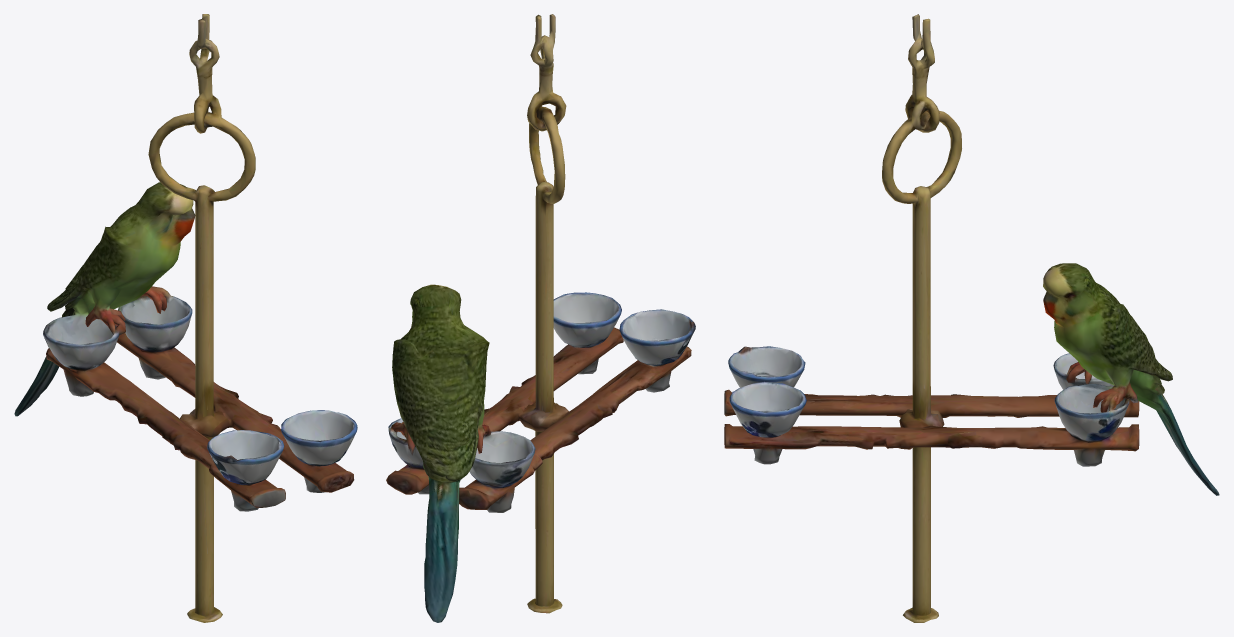
Rendered from yingwu.glb.
3 views of the same model, side by side, from view 1: azimuth 30°, elevation 25°; view 2: azimuth 150°, elevation 25°; view 3: azimuth 270°, elevation 25° (orthographic).
Parts seen in each view (by area): view 1: tripo_node_6efc3e13-c5c3-4c84-beef-500a0983d353; view 2: tripo_node_6efc3e13-c5c3-4c84-beef-500a0983d353; view 3: tripo_node_6efc3e13-c5c3-4c84-beef-500a0983d353.
Boxes of the visible parts, box(x1,y1,x2,y2) form: tripo_node_6efc3e13-c5c3-4c84-beef-500a0983d353: box(14, 14, 357, 622); tripo_node_6efc3e13-c5c3-4c84-beef-500a0983d353: box(386, 14, 695, 622); tripo_node_6efc3e13-c5c3-4c84-beef-500a0983d353: box(724, 14, 1219, 622).
Size of the model in its own units: 0.2187 by 0.8832 by 0.6629.
1 material, 1 textured.
